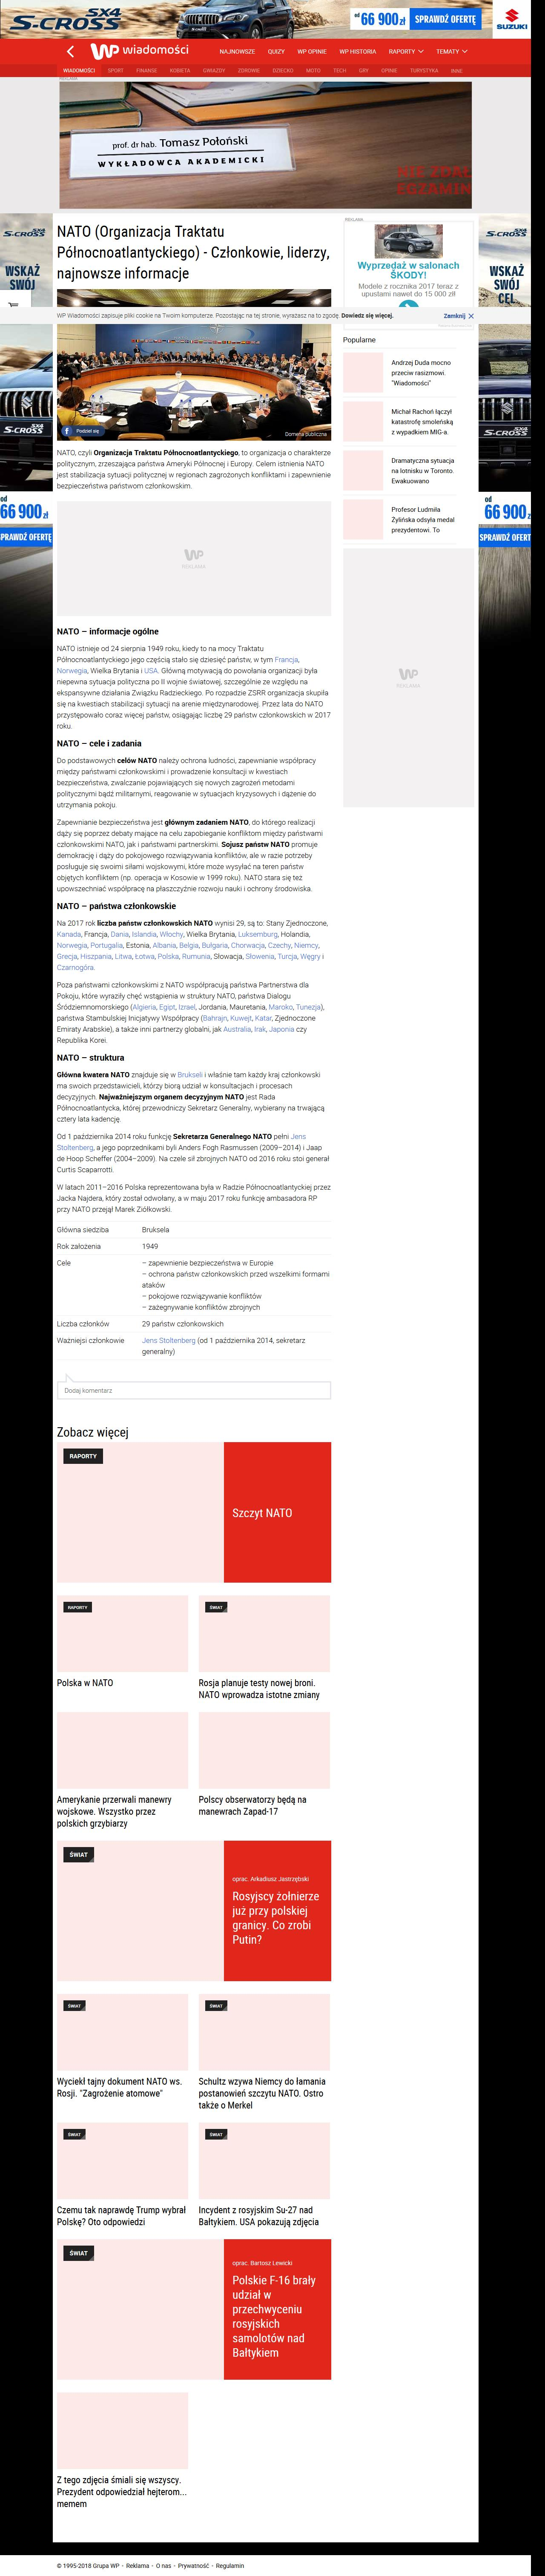title: (56, 223, 332, 281)
